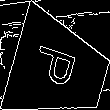P_E: (32, 45, 86, 95)
